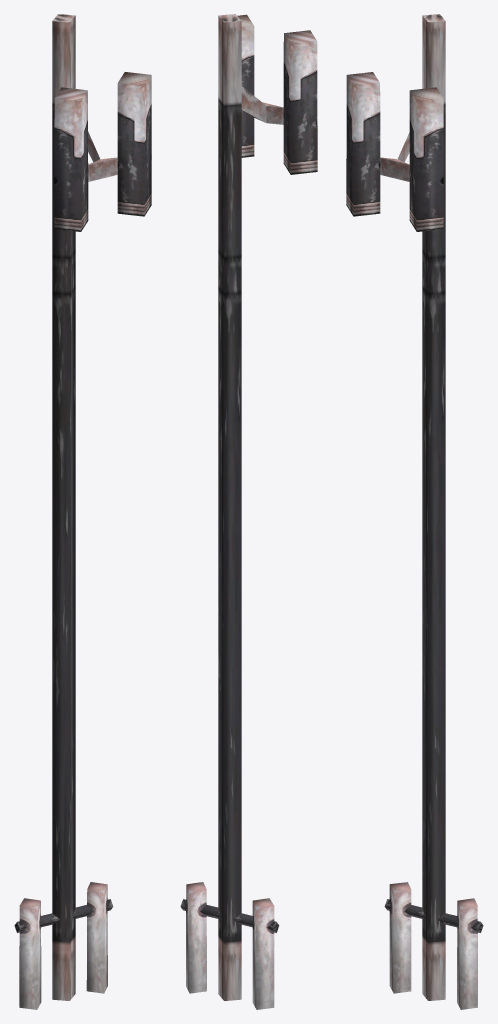
The model's file is mun_all_imprv_streetlamp_lg_s01_l2.fbx.
The picture shows the model from 3 angles, left to right: view 1: azimuth 30°, elevation 25°; view 2: azimuth 150°, elevation 25°; view 3: azimuth 330°, elevation 25°; orthographic projection.
Parts seen in each view (by area): view 1: mesh_node; view 2: mesh_node; view 3: mesh_node.
Boxes of the visible parts, x1,y1,x2,y2 form: mesh_node: (14,14,151,1009); mesh_node: (180,14,317,1009); mesh_node: (346,14,483,1009).
Bounding box in the file's own units: 0.418 × 4.02 × 0.4142.
1 material, 1 textured.
